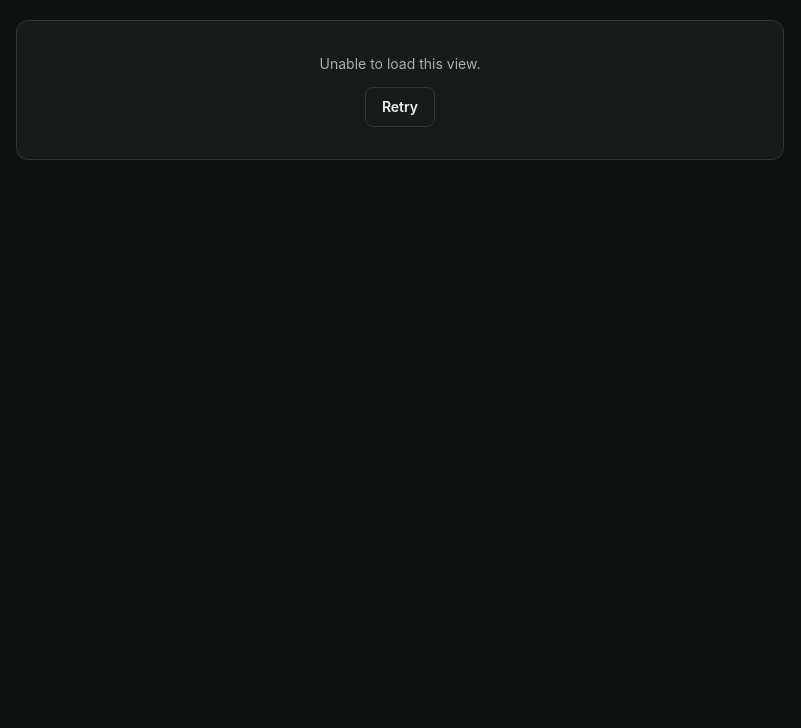
it: failed hydration cannot overwrite saved profile arrays with empty defaults
Later steps or results of the test are not shown.
Expected: the message shows "Unable to load", [320, 55, 480, 72]
Expected: the button "Save profile" is not shown
Click the button "Retry": coordinates (400, 107) [365, 87, 435, 127]
(page scrolled)
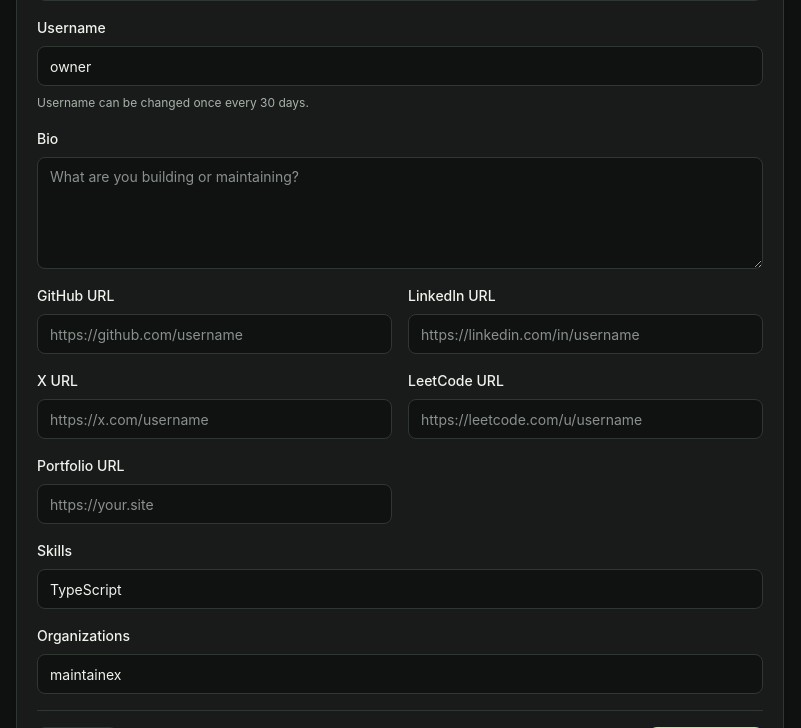
Expected: the field labelled "Skills" holds "TypeScript", [37, 569, 763, 609]
